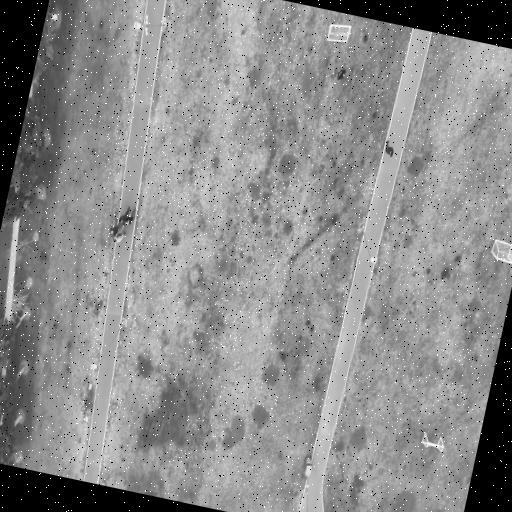person: (114, 225, 125, 243), (126, 205, 136, 224), (119, 207, 130, 223), (386, 140, 394, 155), (110, 224, 119, 236), (338, 69, 346, 79)
